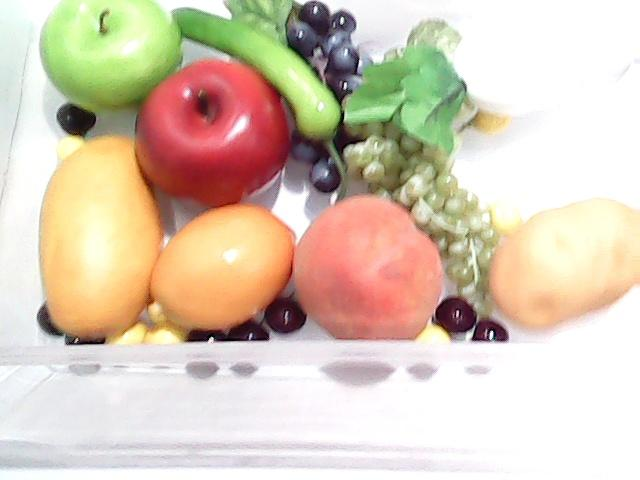apple: (128, 61, 304, 198), (23, 1, 188, 111)
grape: (360, 109, 508, 295), (294, 0, 362, 192)
lemon: (140, 200, 304, 347)
mango: (33, 127, 161, 349)
peach: (284, 199, 448, 353)
pepper: (174, 0, 350, 146)
potato: (488, 197, 640, 338)
radish: (342, 0, 640, 156)
